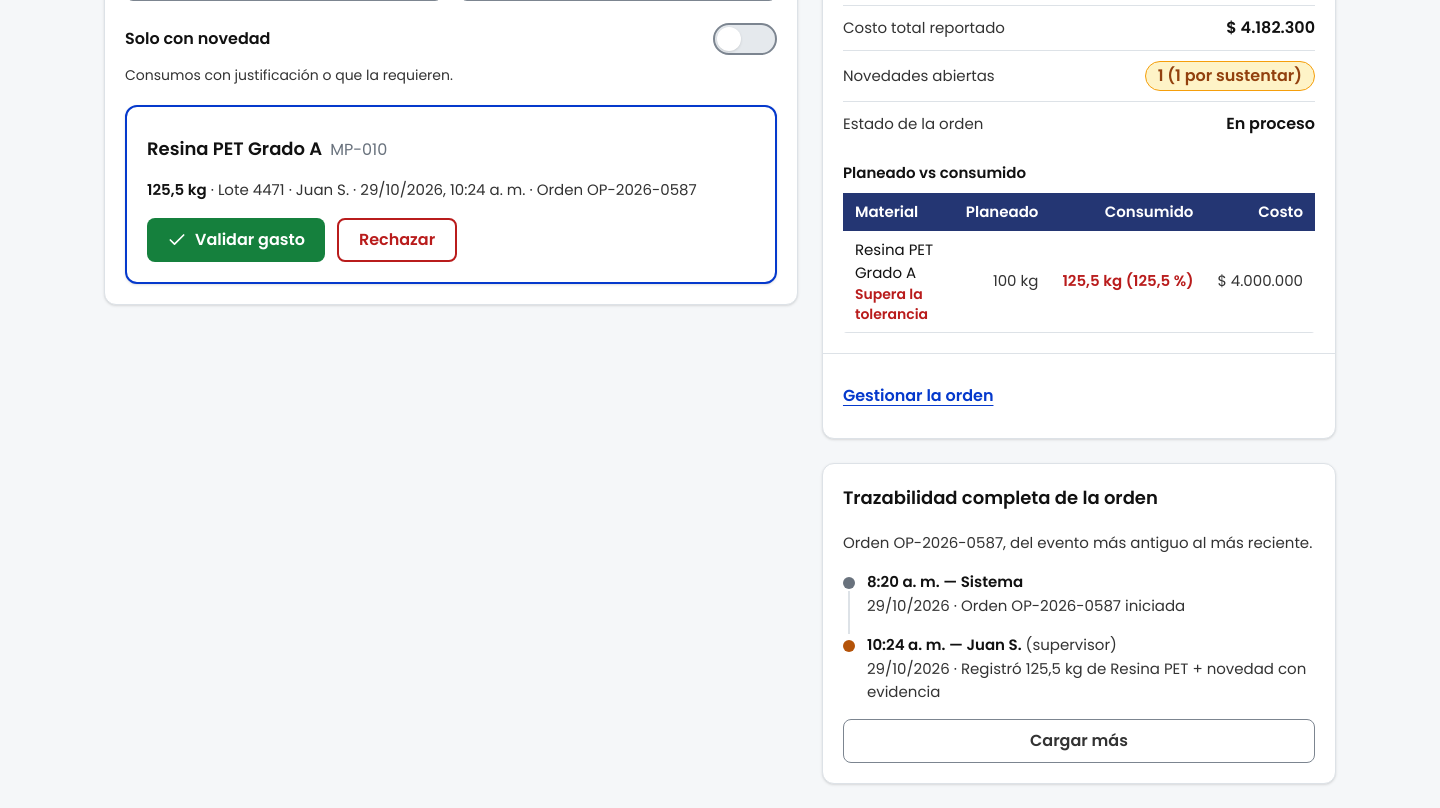
Test case: columna derecha › muestra la trazabilidad con colores por tipo y carga más por cursor
(page scrolled)
Expected: the list item that starts with "8:20 a. m." shows "Sistema", [961,570,1023,592]
What coordinates should you click on to do the following:
click the button "Cargar más"
I would click on:
 (1079, 741)
Its box is [843,719,1315,763].
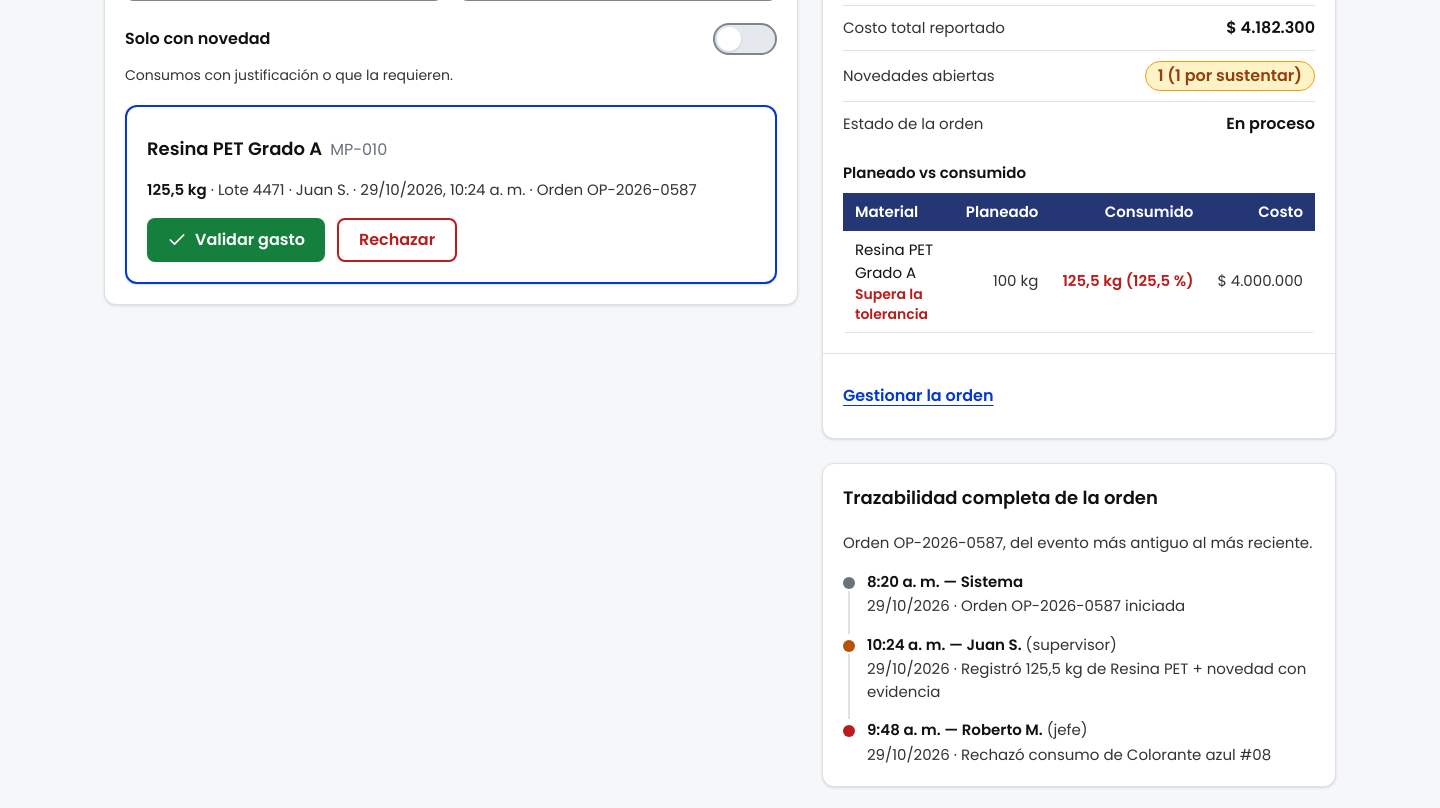
Result: the button "Cargar más" is gone
